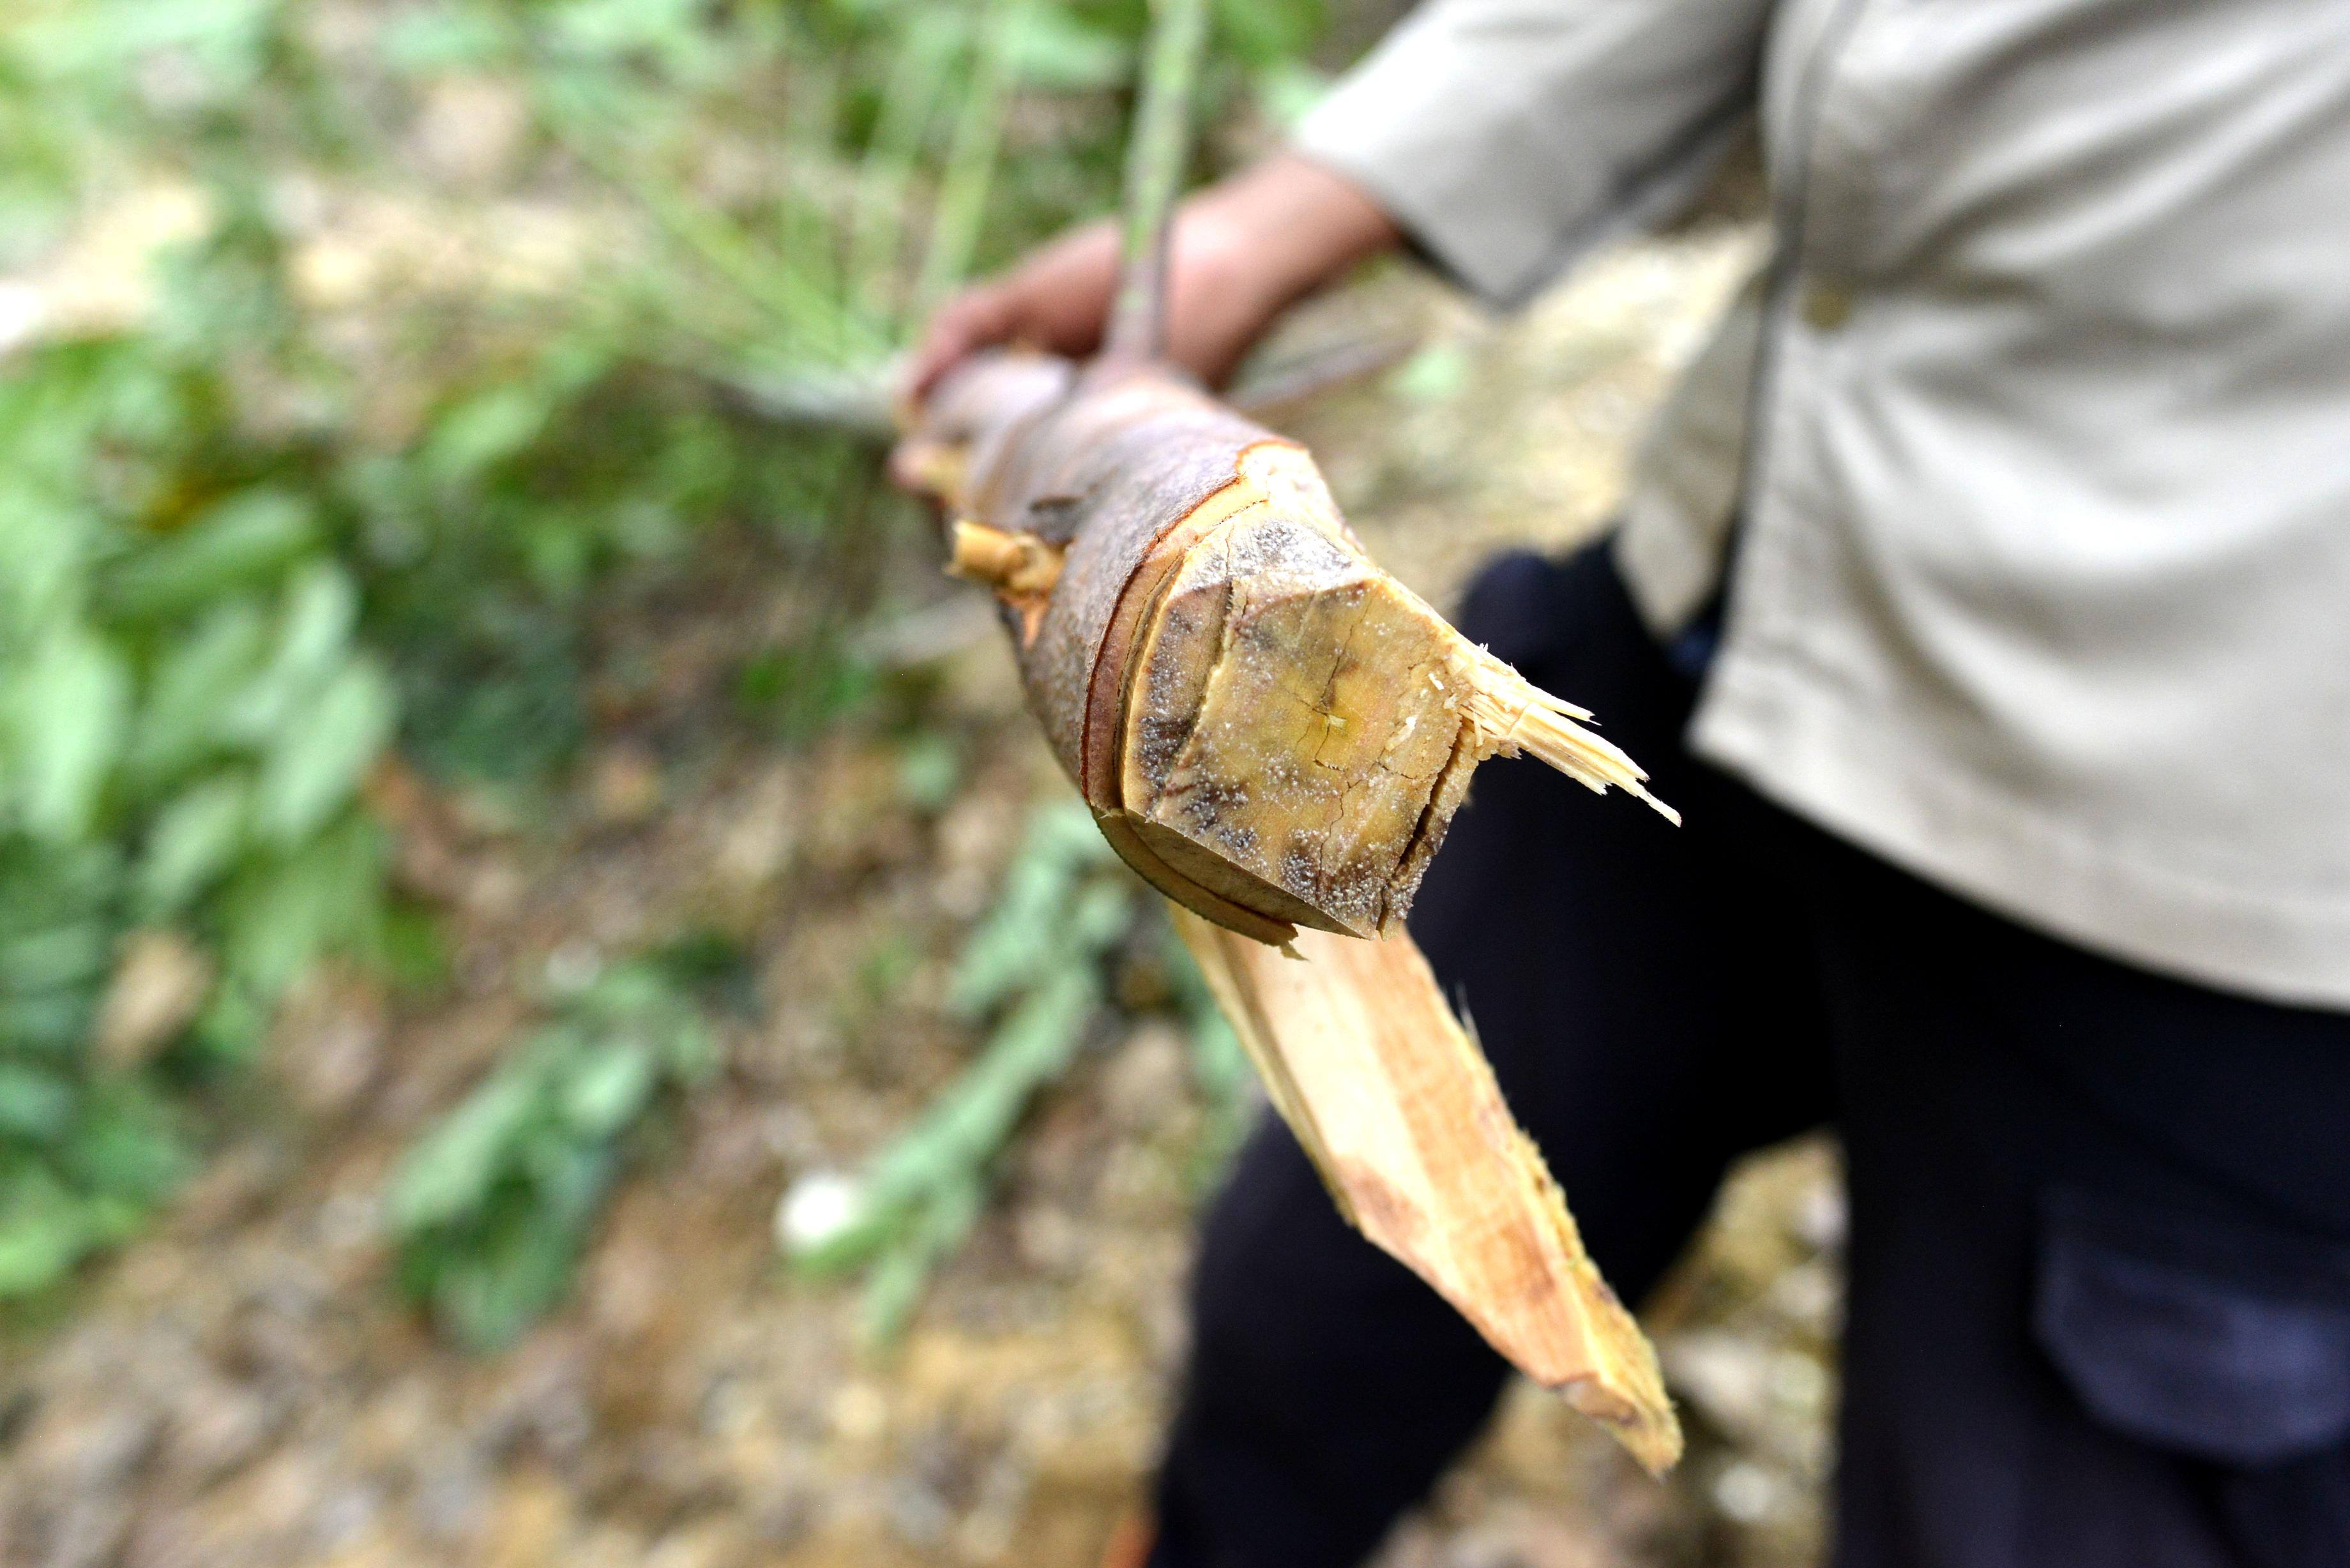Ralstonia: (1106, 630, 1459, 940), (1169, 509, 1374, 611)
